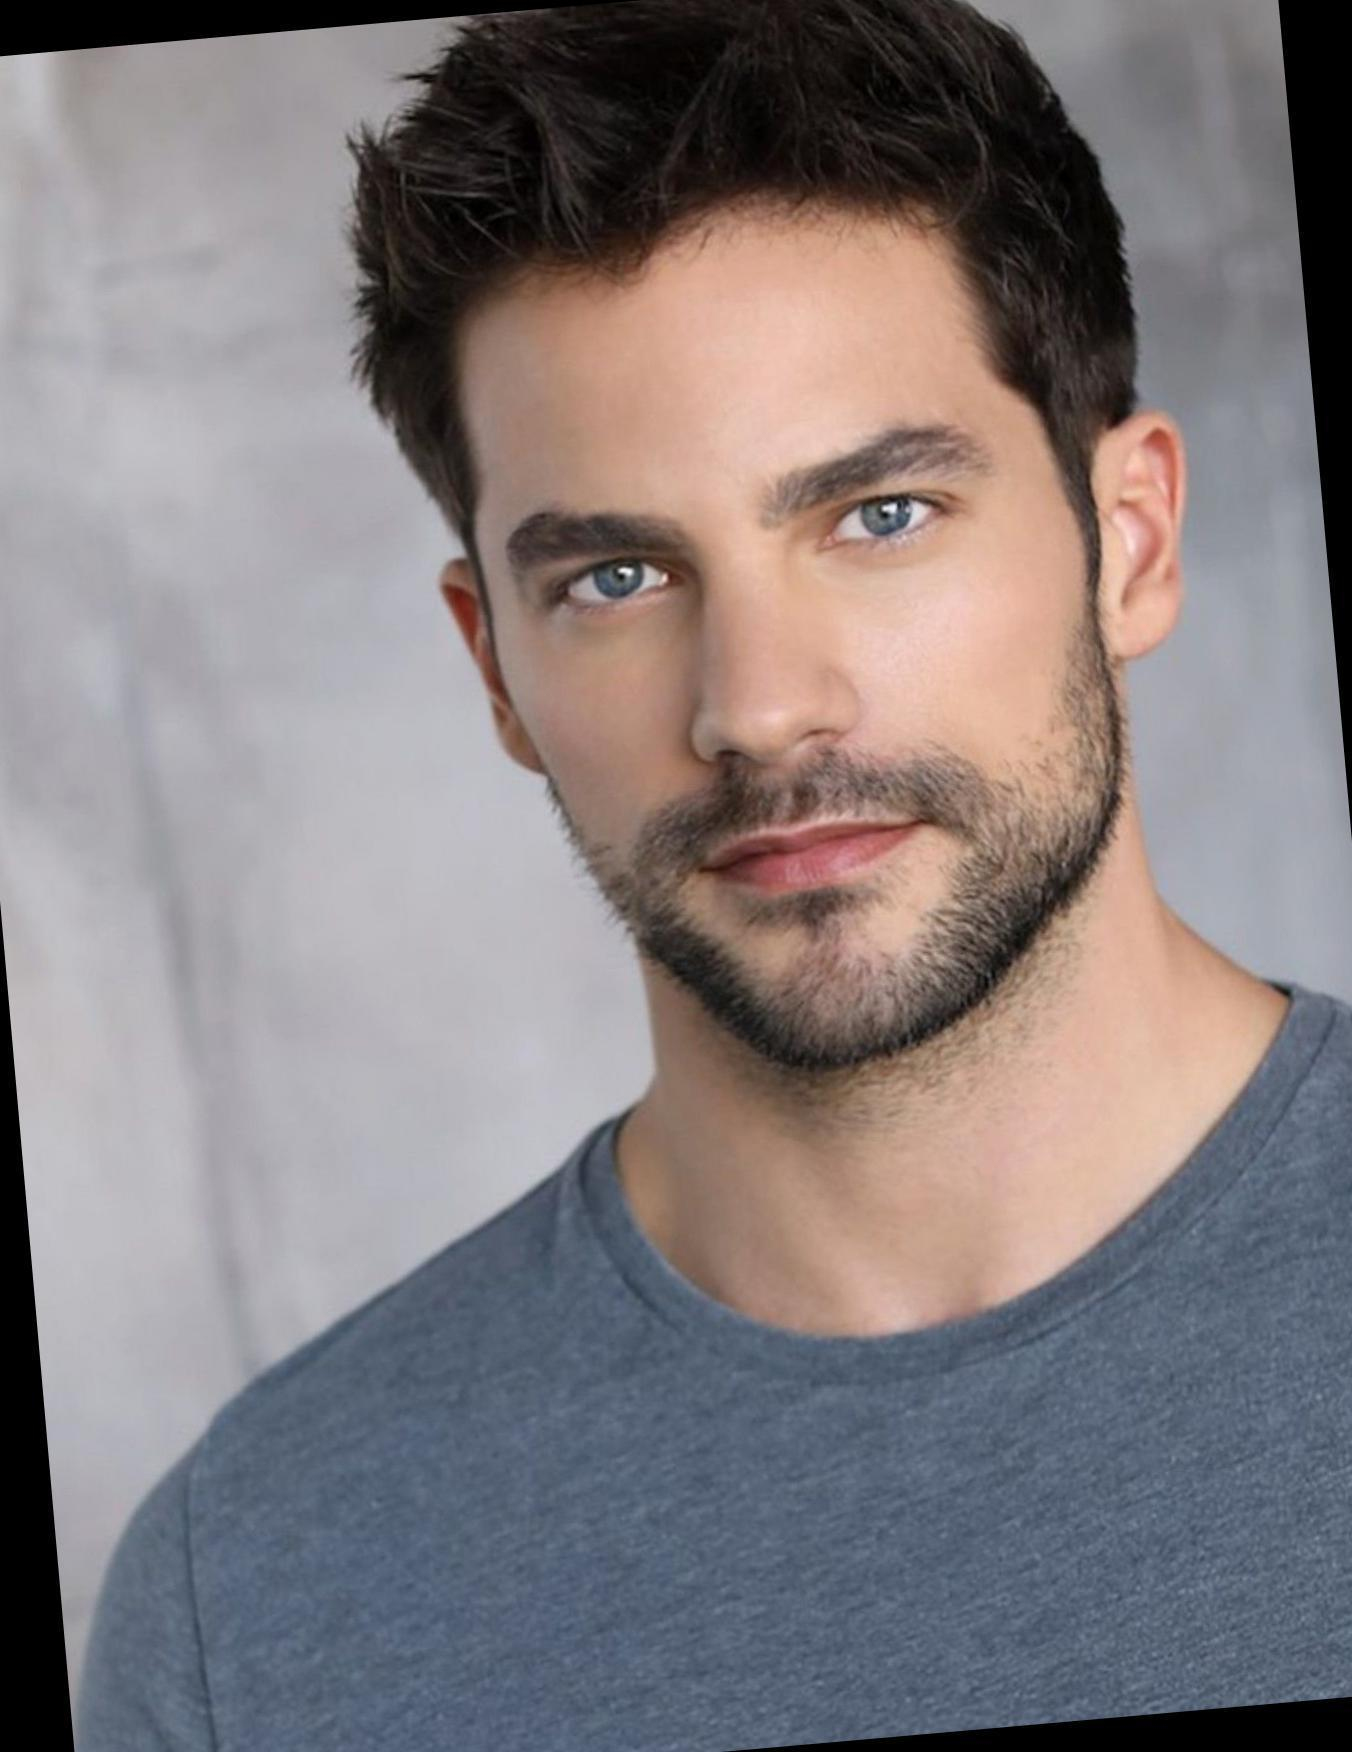Sober: (462, 274, 1072, 1008)
